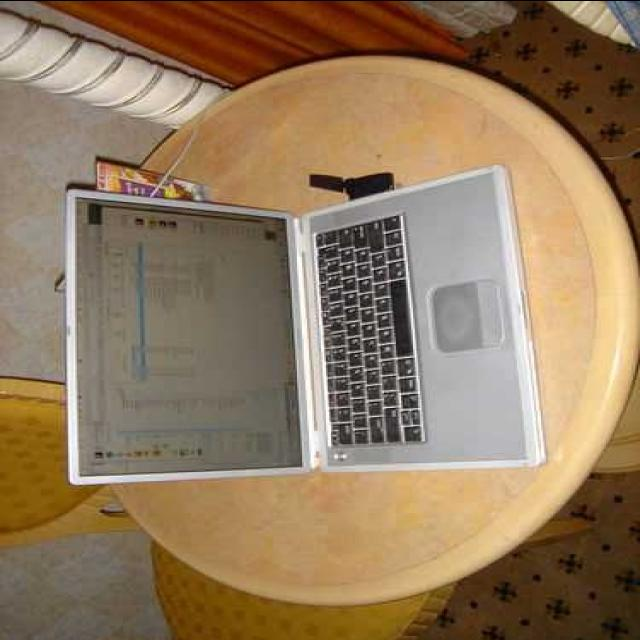laptop: (59, 160, 603, 494)
